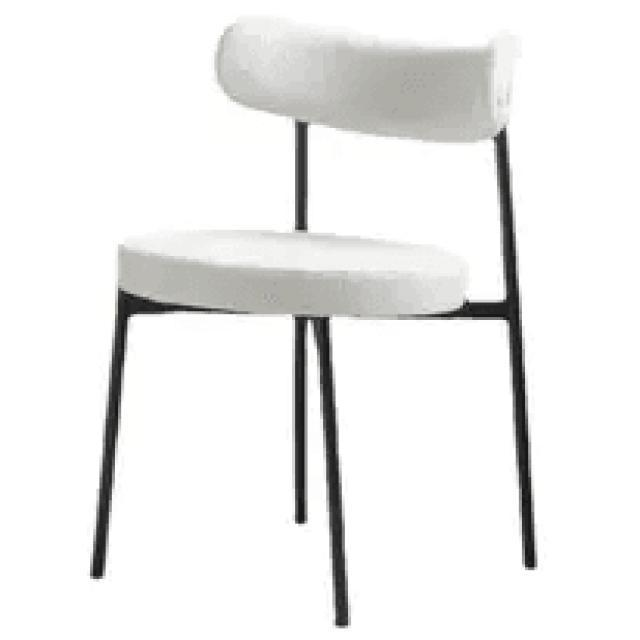chair: (84, 5, 546, 632), (89, 22, 514, 316)
